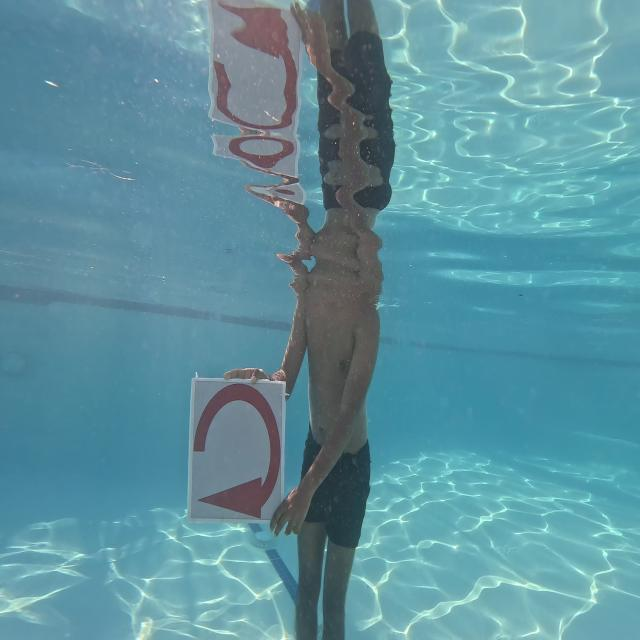red_side: (188, 378, 288, 527)
